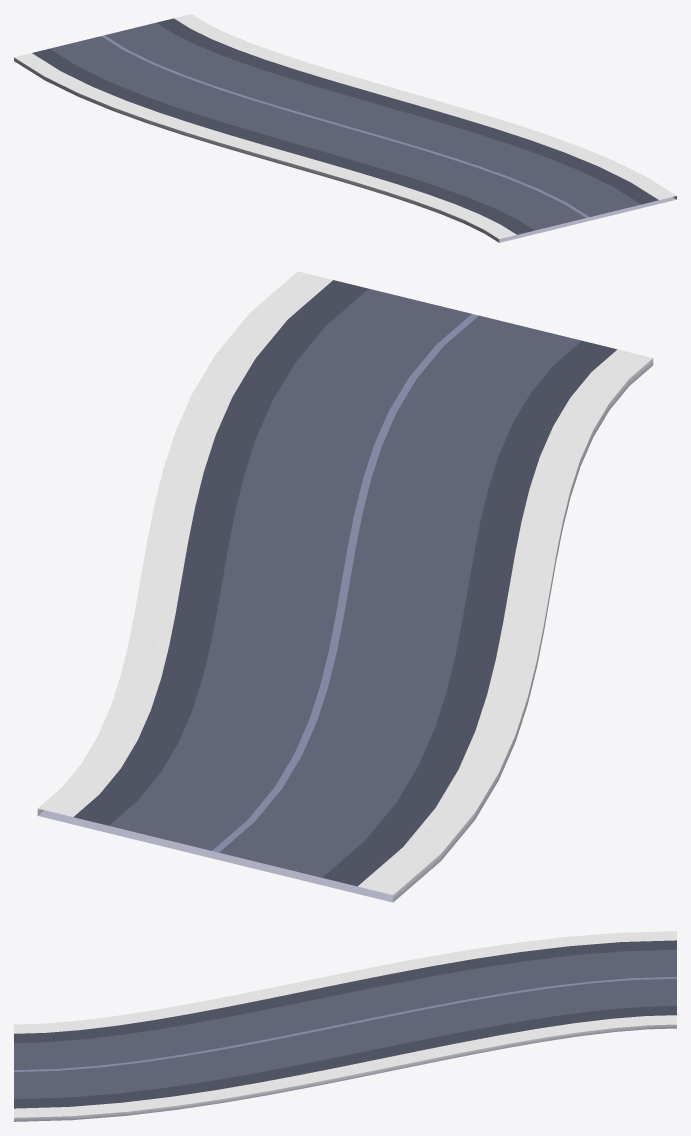
Rendered from road-Chicane-Flat-Flat-Even-Left1-Size3.glb.
The picture shows the model from 3 angles, top to bottom: view 1: azimuth 30°, elevation 25°; view 2: azimuth 150°, elevation 25°; view 3: azimuth 270°, elevation 25°; orthographic projection. The views are drawn at different scales.
Parts seen in each view (by area): view 1: road-Chicane-Flat-Flat-Even-Left1-Size3; view 2: road-Chicane-Flat-Flat-Even-Left1-Size3; view 3: road-Chicane-Flat-Flat-Even-Left1-Size3.
Part boxes in pixels (left/top/right/bottom): road-Chicane-Flat-Flat-Even-Left1-Size3: left=14, top=14, right=676, bottom=242; road-Chicane-Flat-Flat-Even-Left1-Size3: left=37, top=271, right=653, bottom=902; road-Chicane-Flat-Flat-Even-Left1-Size3: left=14, top=931, right=676, bottom=1121.
Size of the model in its own units: 2 by 0.02 by 3.
1 material, 1 textured.
